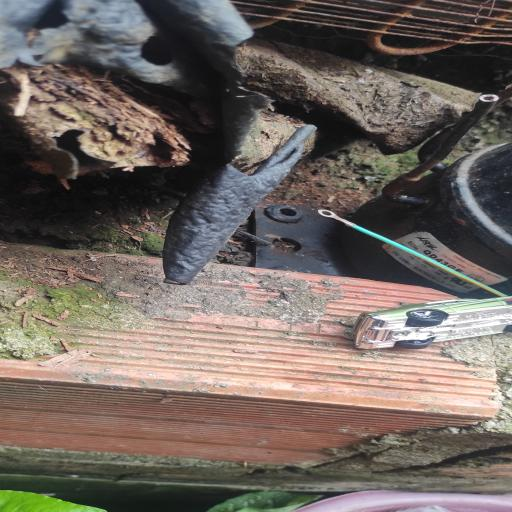Carrito: (351, 296, 512, 349)
